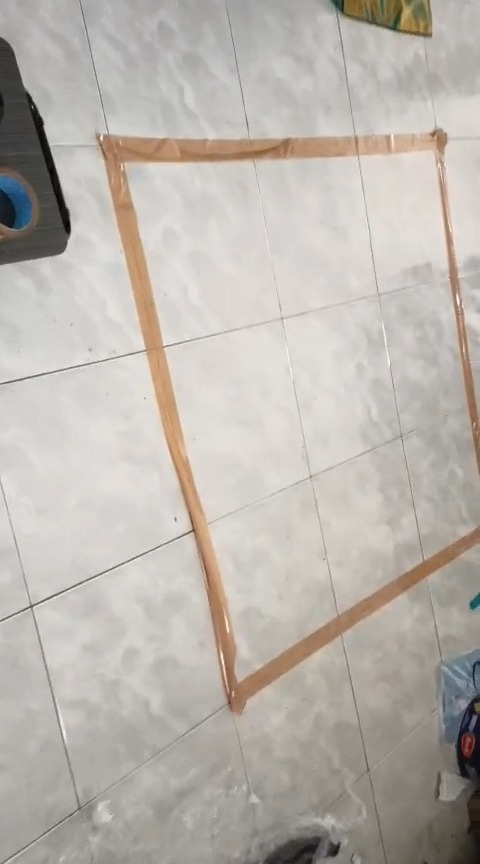floor marking: (99, 129, 479, 713)
